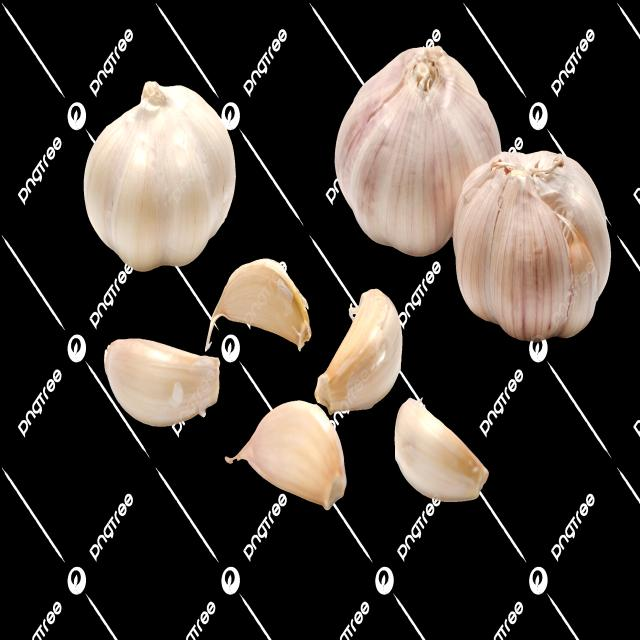garlic: (337, 42, 498, 255), (78, 70, 240, 270), (451, 146, 608, 342)
